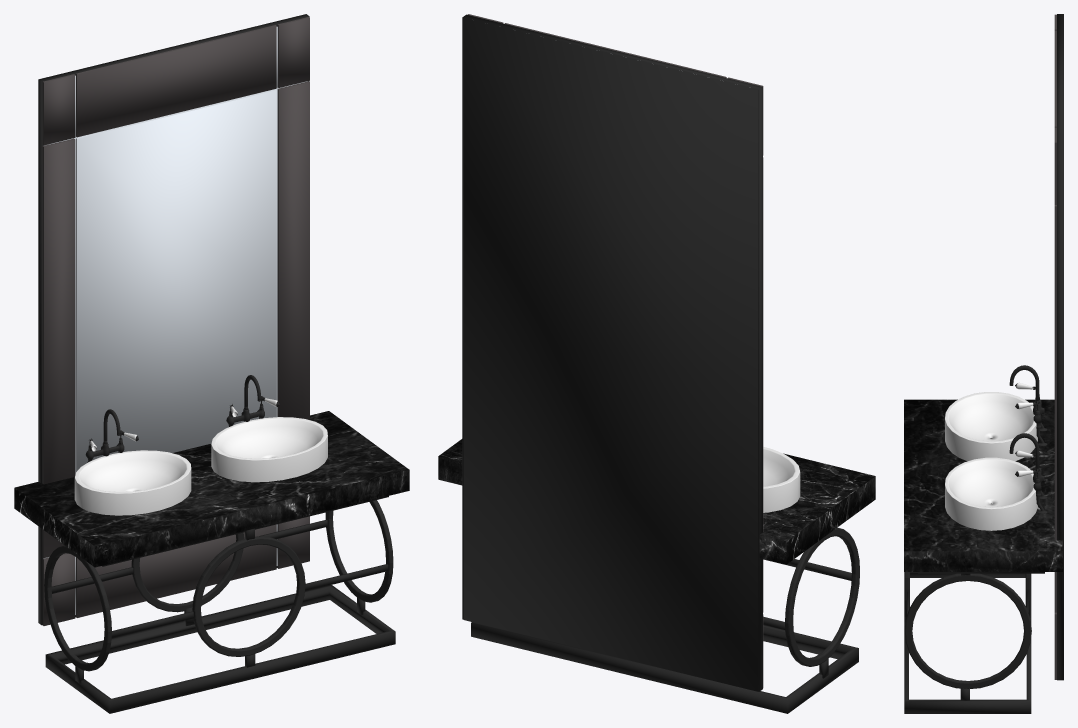
Rendered from Wash-basin.fbx.
3 renders of one model, left to right at view 1: azimuth 30°, elevation 25°; view 2: azimuth 150°, elevation 25°; view 3: azimuth 270°, elevation 25°, orthographic. The views are drawn at different scales.
Parts seen in each view (by area): view 1: Wash-basin N110322.001; view 2: Wash-basin N110322.001; view 3: Wash-basin N110322.001.
Boxes of the visible parts, x1,y1,x2,y2 form: Wash-basin N110322.001: (14,14,409,713); Wash-basin N110322.001: (438,14,875,713); Wash-basin N110322.001: (904,14,1063,713).
Size of the model in its own units: 158 by 274 by 70.16.
Materials: 5 (1 with a texture image).
